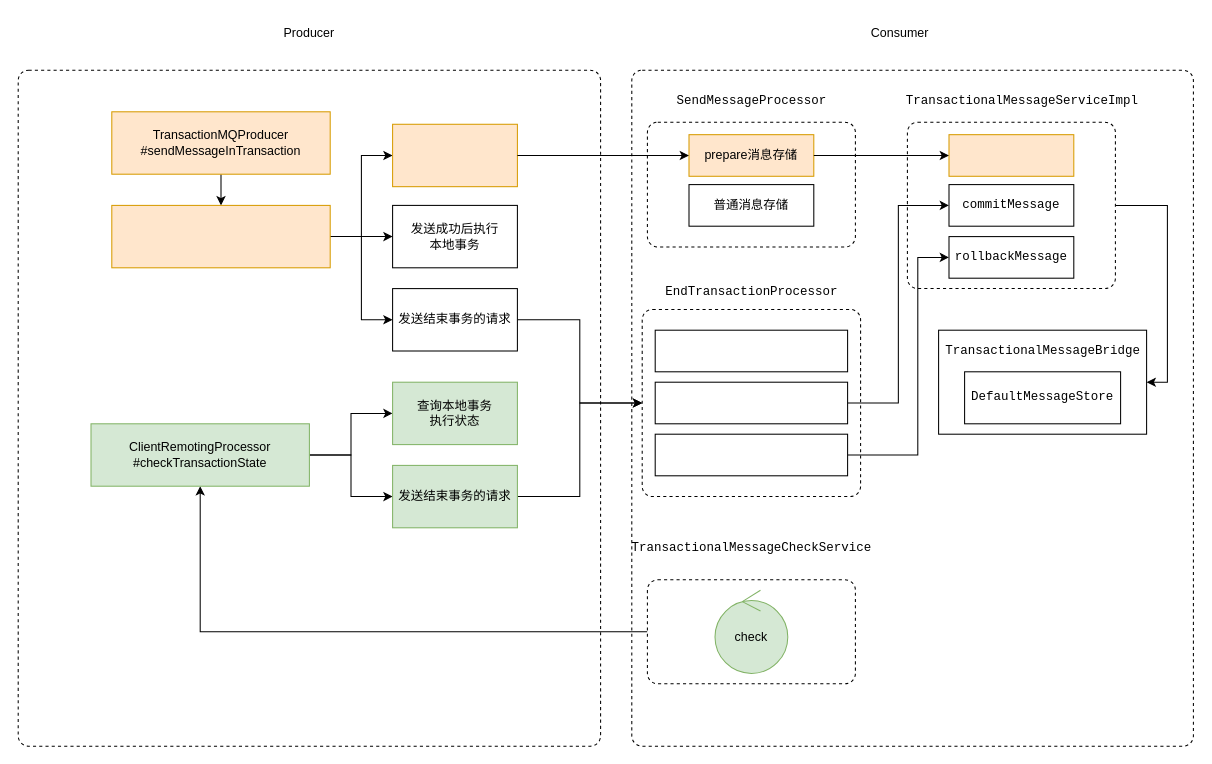
Image size: 1212x764. Some labels were removed from this diagram. The centre of each missing label's shape, as x and y in pixels:
"DefaultMQProducerImpl #sendMessageInTransaction" goes at point 220,236.
"prepareMessage" goes at point 1011,155.
"TRANSACTION_COMMIT_TYPE" goes at point 751,402.
"TRANSACTION_NOT_TYPE" goes at point 751,350.
"TRANSACTION_ROLLBACK_TYPE" goes at point 751,454.
"发送prepare消息" goes at point 454,155.
